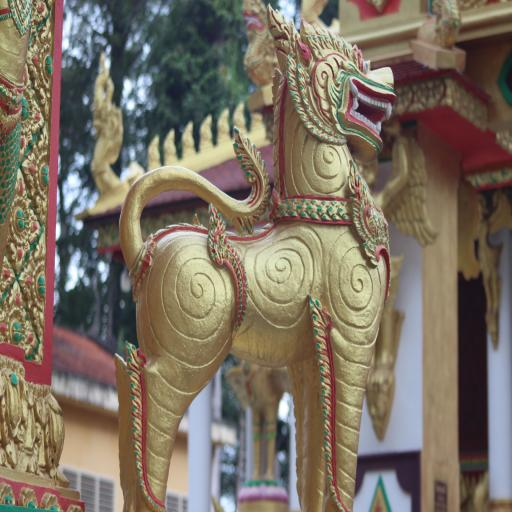hoa: (22, 237, 55, 324), (0, 282, 37, 358), (7, 178, 39, 263), (31, 15, 55, 106), (28, 120, 54, 204), (15, 70, 41, 150)
la: (0, 370, 35, 479), (36, 389, 72, 484)
than: (113, 21, 399, 512)
